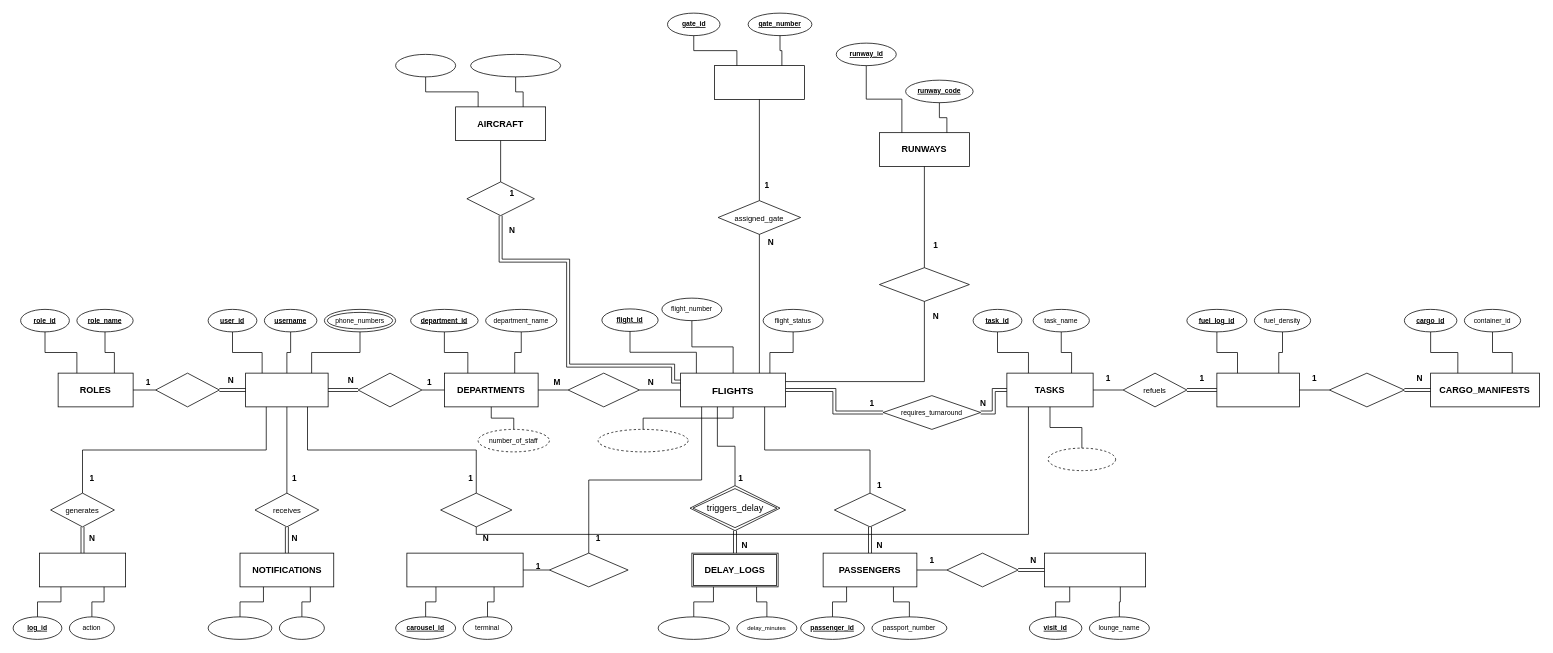
Image size: 1553x653. Some labels were removed from this diagram. The shapes that lost their labels are listed below. From the top down, each one's box as (x1, y1, x2, y2) in pixels, then its label:
(395, 54, 456, 77): aircraft_id
(470, 54, 561, 77): registration_number
(714, 65, 804, 99): GATES
(466, 181, 534, 216): operates
(879, 267, 969, 301): assigned_runway
(155, 372, 219, 407): has_role
(245, 372, 328, 407): USERS
(357, 372, 422, 407): employs
(567, 372, 639, 407): coordinates
(1216, 372, 1299, 407): FUEL_LOGS
(1329, 372, 1404, 407): carries_cargo
(597, 429, 688, 452): turnaround_duration
(1047, 447, 1116, 471): elapsed_time
(440, 492, 512, 527): performs_task
(834, 492, 906, 527): carries_pax
(39, 552, 126, 587): AUDIT_LOGS
(406, 552, 523, 587): BAGGAGE_CAROUSELS
(549, 552, 628, 587): claims_baggage
(946, 552, 1018, 587): visits_lounge
(1044, 552, 1146, 587): LOUNGE_VISITS
(207, 616, 272, 639): notification_id
(279, 616, 324, 639): title
(657, 616, 729, 639): delay_seq_no
